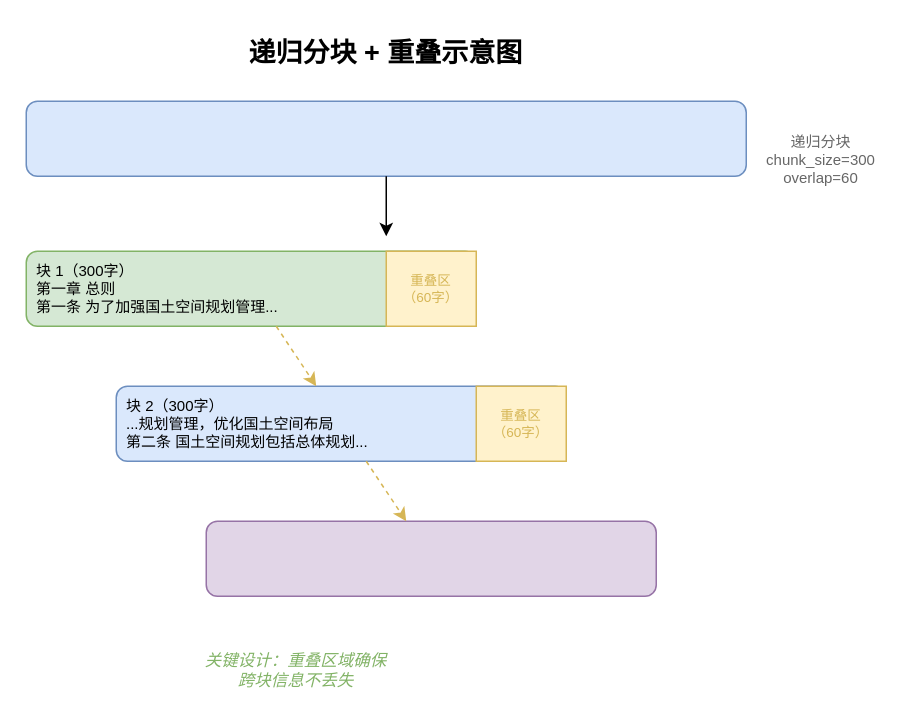
Image size: 923x714. Some labels were removed from this diagram. Here are the shapes that lost their labels. From the top down, the centre of each, then its label:
At point (385, 138): "原始文档（1200字） 第一章 总则 | 第一条 | 第二条 | 第三条 | ...".
At point (430, 558): "块 3（300字） ...总体规划、详细规划和相关专项规划 第三条 国土空间规划的编制应当...".
